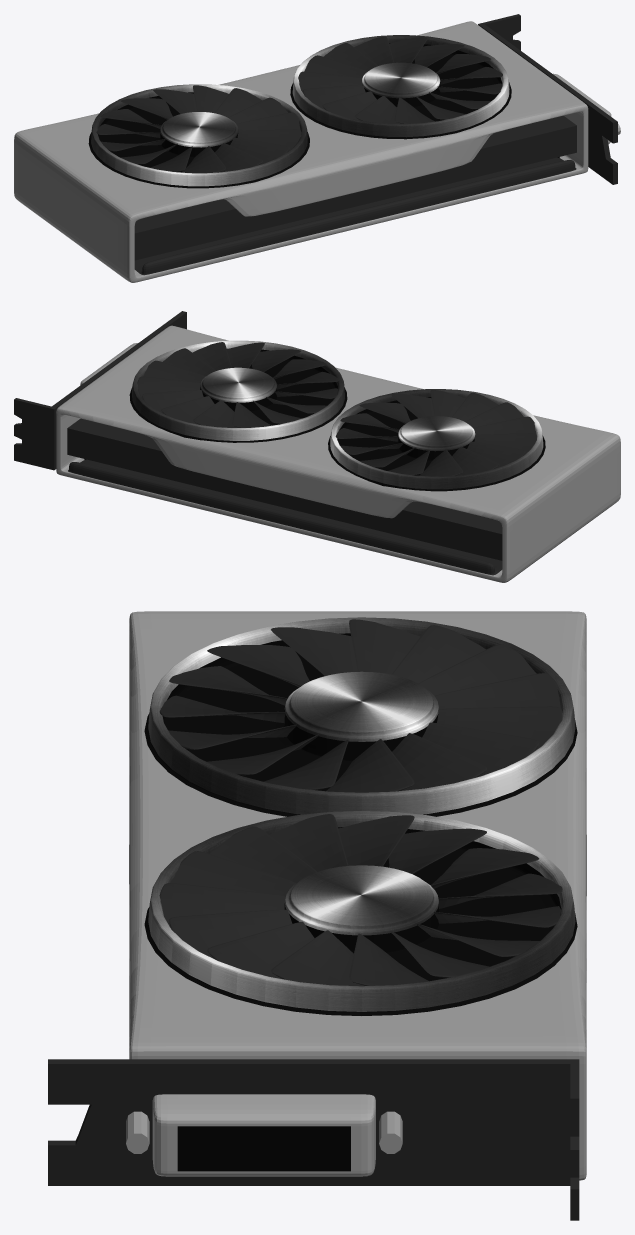
File: graphics card.glb
The picture shows the model from 3 angles, top to bottom: view 1: azimuth 30°, elevation 25°; view 2: azimuth 150°, elevation 25°; view 3: azimuth 270°, elevation 25°; orthographic projection. The views are drawn at different scales.
Visible parts, largest first — view 1: Cube; view 2: Cube; view 3: Cube.
Boxes of the visible parts, x1=… form: Cube: x1=14, y1=14, x2=620, y2=282; Cube: x1=14, y1=311, x2=620, y2=582; Cube: x1=48, y1=611, x2=586, y2=1220.
Bounding box in the file's own units: 11.5 × 1.82 × 5.41.
Materials: 5 (1 with a texture image).
